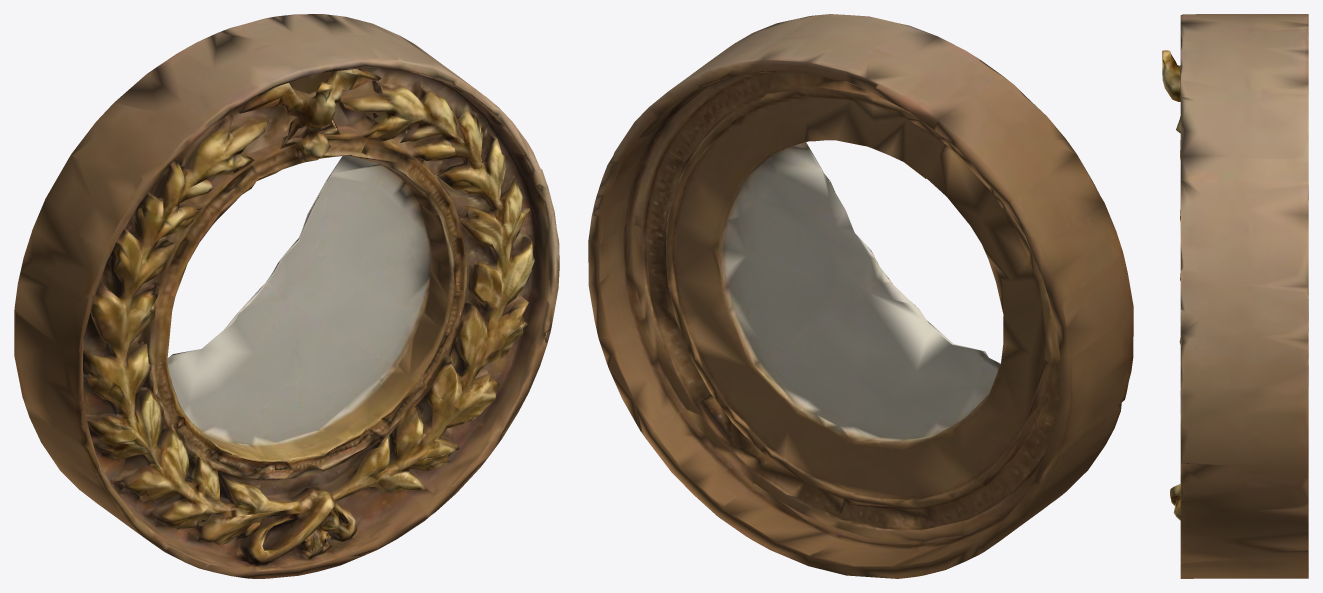
File: hero-frame.glb
The picture shows the model from 3 angles, left to right: view 1: azimuth 30°, elevation 25°; view 2: azimuth 150°, elevation 25°; view 3: azimuth 270°, elevation 25°; orthographic projection.
Visible parts, largest first — view 1: tripo_node_f22bb1f2-722c-4033-869e-e643eedeb9aa; view 2: tripo_node_f22bb1f2-722c-4033-869e-e643eedeb9aa; view 3: tripo_node_f22bb1f2-722c-4033-869e-e643eedeb9aa.
Part boxes in pixels (left/top/right/bottom): tripo_node_f22bb1f2-722c-4033-869e-e643eedeb9aa: left=14, top=14, right=559, bottom=578; tripo_node_f22bb1f2-722c-4033-869e-e643eedeb9aa: left=588, top=14, right=1133, bottom=578; tripo_node_f22bb1f2-722c-4033-869e-e643eedeb9aa: left=1162, top=14, right=1308, bottom=578.
Size of the model in its own units: 0.9998 by 0.999 by 0.2595.
Materials: 1 (1 with a texture image).
